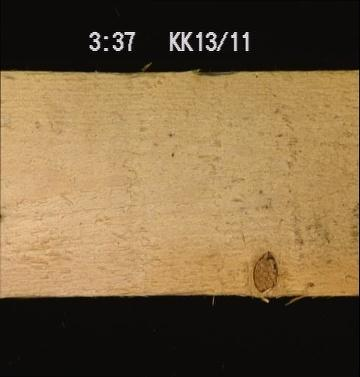dry_knot: (250, 250, 278, 292)
